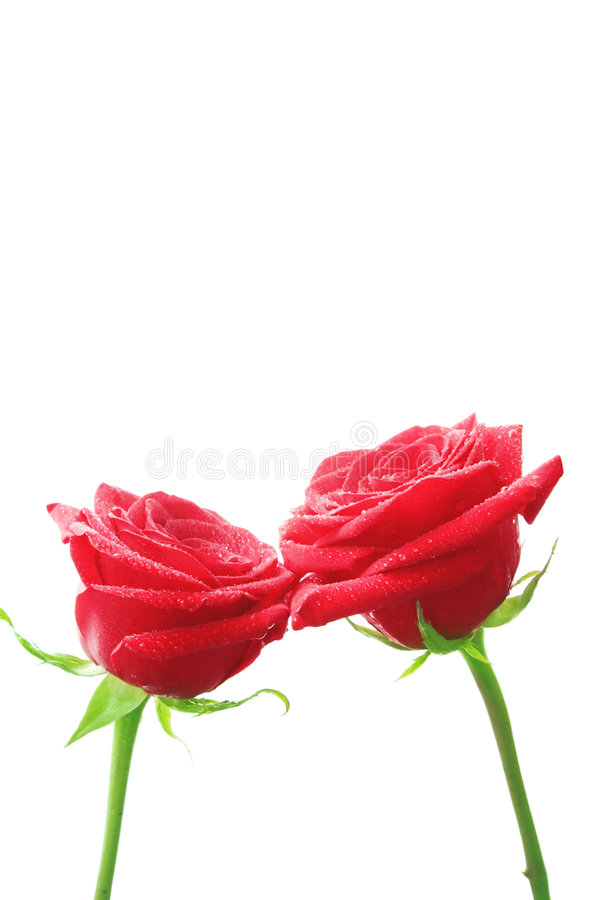RedRose: (226, 378, 562, 666), (14, 476, 298, 695)
